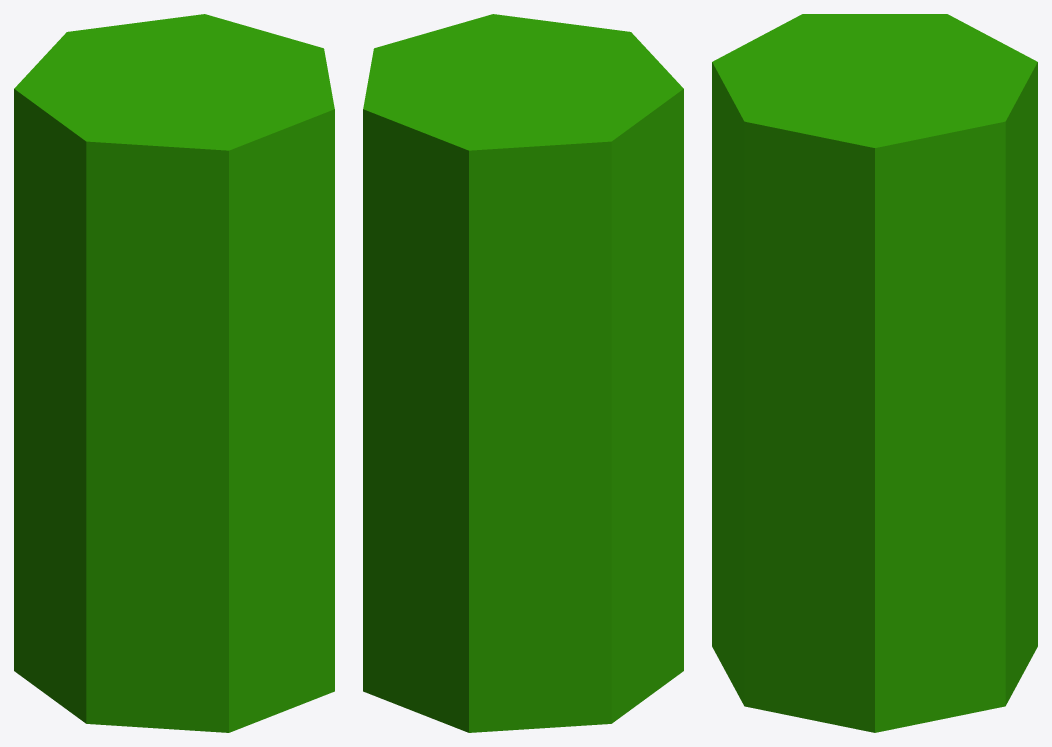
File: Cylinder tree.fbx
The picture shows the model from 3 angles, left to right: view 1: azimuth 30°, elevation 25°; view 2: azimuth 150°, elevation 25°; view 3: azimuth 270°, elevation 25°; orthographic projection.
Visible parts, largest first — view 1: pCylinder17; view 2: pCylinder17; view 3: pCylinder17.
Part boxes in pixels (bbox=[...]): pCylinder17: bbox=[14, 14, 334, 732]; pCylinder17: bbox=[363, 14, 683, 732]; pCylinder17: bbox=[712, 14, 1037, 732].
Bounding box in the file's own units: 11.44 × 23.25 × 11.74.
